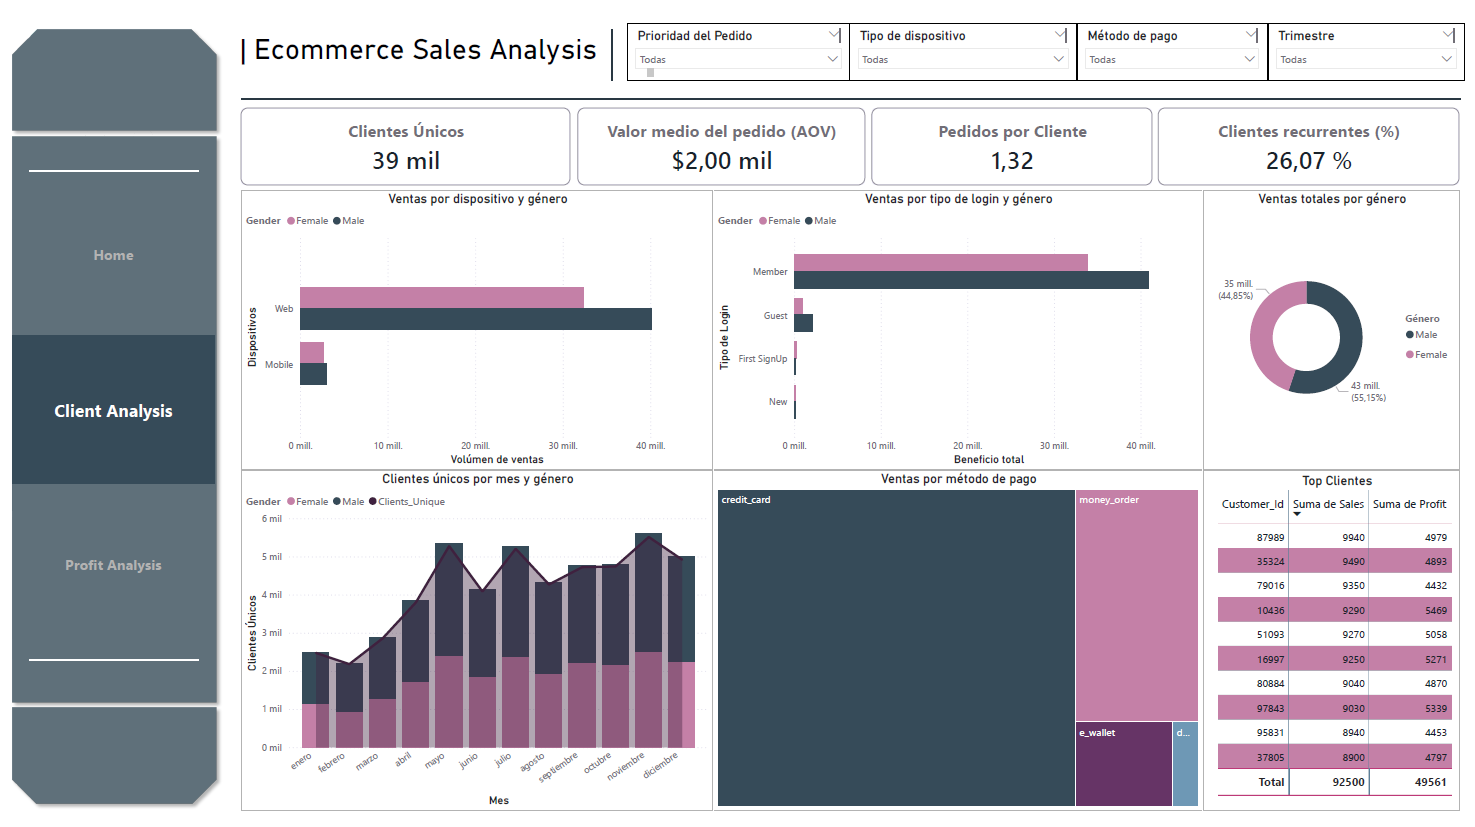

The dashboard page shown, as its layout file describes it:
{"tool":"powerbi","page":{"name":"Customer Analysis","canvas":[1920,1080],"ordinal":1},"visuals":[{"type":"clusteredBarChart","title":"Sales by Login Type and Gender","fields":{"Category":["ecomm.Customer_Login_type"],"Series":["ecomm.Gender"],"Y":["Sum(ecomm.Sales)"]},"box":[927,251.4,641.1,367.1],"z":0},{"type":"treemap","title":"Sales by Payment Method","fields":{"Group":["ecomm.Payment_method"],"Values":["Sum(ecomm.Sales)"]},"box":[927,618.5,641.1,445.6],"z":1000},{"type":"donutChart","title":"Sales by Gender","fields":{"Category":["ecomm.Gender"],"Y":["Sum(ecomm.Sales)"]},"box":[1568.1,251.4,336.5,367.1],"z":2000},{"type":"clusteredBarChart","title":"Sales by Device and Gender","fields":{"Series":["ecomm.Gender"],"Y":["Sum(ecomm.Sales)"],"Category":["ecomm.Device_Type"]},"box":[308.6,251.4,618.5,367.1],"z":3000},{"type":"slicer","fields":{"Values":["Calendar.Quarter"]},"box":[1653.3,33.3,258,74.5],"z":4000},{"type":"slicer","fields":{"Values":["ecomm.Order_Priority"]},"box":[814,33.3,292.6,74.5],"z":5000},{"type":"slicer","fields":{"Values":["ecomm.Payment_method"]},"box":[1403.2,33.3,250,74.5],"z":6000},{"type":"slicer","fields":{"Values":["ecomm.Device_Type"]},"box":[1105.3,33.3,297.9,74.5],"z":7000},{"type":"textbox","title":"| Ecommerce Sales Analysis","box":[301.9,43.9,552,63.8],"z":8000},{"type":"shape","box":[308.6,122.4,1596.1,20],"z":9000},{"type":"shape","box":[779.4,41.2,30.6,66.5],"z":10000},{"type":"image","box":[39.9,65.2,204.8,135.7],"z":11000},{"type":"shape","box":[30.6,239.4,222.1,22.6],"z":12000},{"type":"shape","box":[30.6,867.2,222.1,22.6],"z":13000},{"type":"pageNavigator","box":[9.3,290,264.7,577.2],"z":14000},{"type":"shape","box":[0,171.6,284.6,759.5],"z":15000},{"type":"shape","box":[0,31.9,284.6,150.3],"z":16000},{"type":"shape","box":[0,920.4,284.6,143.6],"z":17000},{"type":"shape","box":[30.6,214.1,222.1,22.6],"z":18000},{"type":"shape","box":[30.6,855.2,222.1,22.6],"z":19000},{"type":"pageNavigator","box":[9.3,239.4,264.7,599.9],"z":20000},{"type":"tableEx","title":"Top Customers","fields":{"Values":["ecomm.Customer_Id","Sum(ecomm.Sales)","Sum(ecomm.Profit)"]},"box":[1568.1,618.5,336.5,445.6],"z":21000},{"type":"cardVisual","fields":{"Data":["ecomm.Clients_Unique"]},"box":[291.3,126.4,465.5,135.7],"z":22000},{"type":"cardVisual","fields":{"Data":["ecomm.Avg_Order_Value"]},"box":[731.5,126.4,411,135.7],"z":23000},{"type":"cardVisual","fields":{"Data":["ecomm.Pedidos por Cliente"]},"box":[1117.2,126.4,401.7,135.7],"z":24000},{"type":"cardVisual","fields":{"Data":["ecomm.Repeat Rate"]},"box":[1492.3,126.4,428.3,135.7],"z":25000},{"type":"lineStackedColumnComboChart","title":"Unique Customers by Month and Gender","fields":{"Category":["Calendar.MonthName"],"Series":["ecomm.Gender"],"Y":["ecomm.Clients_Unique"],"Y2":["ecomm.Clients_Unique"]},"box":[308.6,618.5,618.5,445.6],"z":26000}]}

Visuals, with their boxes in screenshot pixels (x1, y1, x2, y2), scaled from the page's 1920x1080 canvas onto the 1475x827 screenshot:
"Sales by Login Type and Gender" clusteredBarChart: 712,193,1205,474
"Sales by Payment Method" treemap: 712,474,1205,815
"Sales by Gender" donutChart: 1205,193,1463,474
"Sales by Device and Gender" clusteredBarChart: 237,193,712,474
slicer - Calendar.Quarter: 1270,25,1468,83
slicer - ecomm.Order_Priority: 625,25,850,83
slicer - ecomm.Payment_method: 1078,25,1270,83
slicer - ecomm.Device_Type: 849,25,1078,83
"| Ecommerce Sales Analysis" textbox: 232,34,656,82
shape: 237,94,1463,109
shape: 599,32,622,82
image: 31,50,188,154
shape: 24,183,194,201
shape: 24,664,194,681
pageNavigator: 7,222,210,664
shape: 0,131,219,713
shape: 0,24,219,140
shape: 0,705,219,815
shape: 24,164,194,181
shape: 24,655,194,672
pageNavigator: 7,183,210,643
"Top Customers" tableEx: 1205,474,1463,815
cardVisual - ecomm.Clients_Unique: 224,97,581,201
cardVisual - ecomm.Avg_Order_Value: 562,97,878,201
cardVisual - ecomm.Pedidos por Cliente: 858,97,1167,201
cardVisual - ecomm.Repeat Rate: 1146,97,1474,201
"Unique Customers by Month and Gender" lineStackedColumnComboChart: 237,474,712,815
